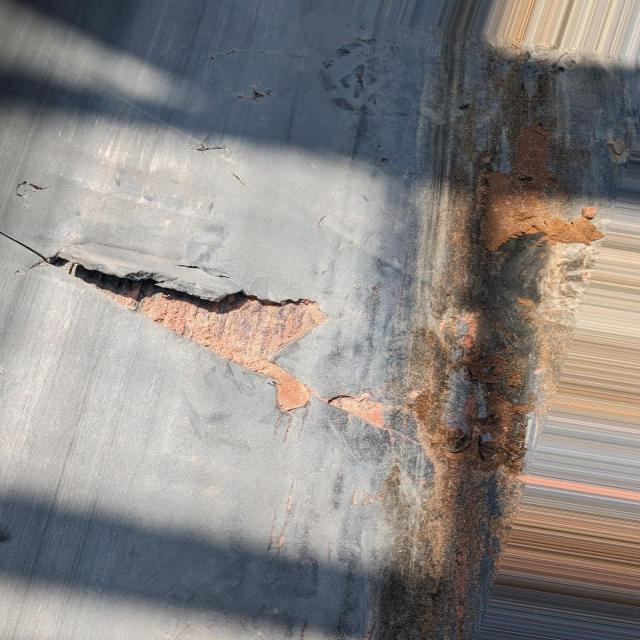Tear: (37, 241, 394, 432), (0, 205, 51, 266), (221, 79, 290, 102), (8, 178, 60, 203), (197, 129, 236, 155)
